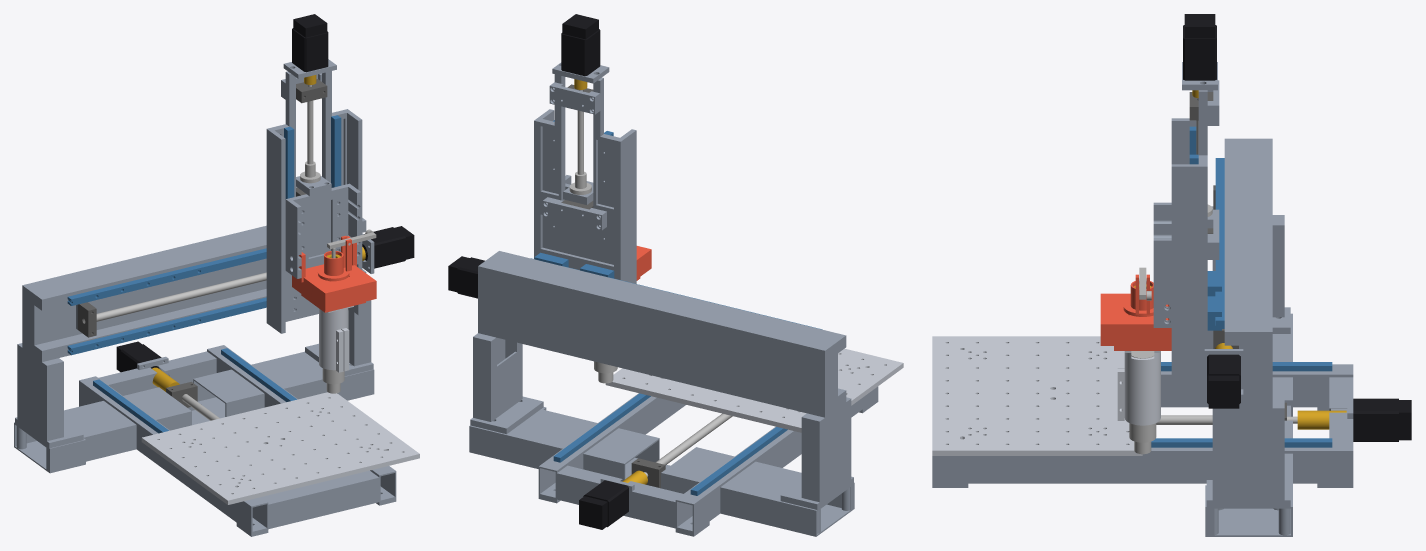
File: standard_max.glb
The picture shows the model from 3 angles, left to right: view 1: azimuth 30°, elevation 25°; view 2: azimuth 150°, elevation 25°; view 3: azimuth 270°, elevation 25°; orthographic projection. The views are drawn at different scales.
Parts seen in each view (by area): view 1: table, beam, frame_cross_rear, x_carriage, z_slide, upright_L, frame_cross_front, frame_longeron_L, tooldock_master, frame_cross_end, x_rail_top, x_rail_bot (+14 smaller); view 2: beam, frame_cross_rear, x_carriage, table, upright_R, upright_L, frame_longeron_L, frame_cross_end, frame_longeron_R, z_motor, y_motor, z_bf_bridge (+6 smaller); view 3: table, beam, frame_longeron_R, x_carriage, upright_R, frame_cross_rear, head_mount, tooldock_master, y_motor, frame_longeron_L, z_slide, z_motor (+10 smaller).
Boxes of the visible parts, box(x1,y1,x2,y2) form: table: box(141, 392, 419, 504); beam: box(22, 218, 374, 361); frame_cross_rear: box(14, 351, 374, 473); x_carriage: box(266, 71, 362, 333); z_slide: box(285, 183, 361, 278); upright_L: box(15, 343, 83, 448); frame_cross_front: box(261, 470, 379, 529); frame_longeron_L: box(79, 376, 268, 536); tooldock_master: box(292, 236, 376, 311); frame_cross_end: box(98, 351, 216, 395); x_rail_top: box(67, 248, 266, 305); x_rail_bot: box(67, 297, 266, 355); beam: box(478, 251, 846, 417); frame_cross_rear: box(469, 407, 854, 536); x_carriage: box(534, 74, 636, 283); table: box(605, 348, 903, 432); upright_R: box(470, 333, 543, 434); upright_L: box(780, 397, 853, 509); frame_longeron_L: box(675, 386, 878, 536); frame_cross_end: box(557, 465, 682, 528); frame_longeron_R: box(538, 393, 685, 503); z_motor: box(561, 14, 600, 76); y_motor: box(579, 480, 628, 529); z_bf_bridge: box(542, 197, 606, 230); table: box(932, 336, 1142, 455); beam: box(1204, 138, 1272, 408); frame_longeron_R: box(932, 440, 1353, 487); x_carriage: box(1171, 90, 1207, 403); upright_R: box(1206, 398, 1290, 506); frame_cross_rear: box(1205, 313, 1292, 536); head_mount: box(1117, 351, 1160, 425); tooldock_master: box(1100, 293, 1171, 345); y_motor: box(1353, 398, 1411, 441); frame_longeron_L: box(1161, 364, 1353, 410); z_slide: box(1153, 202, 1171, 327); z_motor: box(1183, 14, 1216, 80).
Size of the model in its own units: 857 by 883 by 797.
